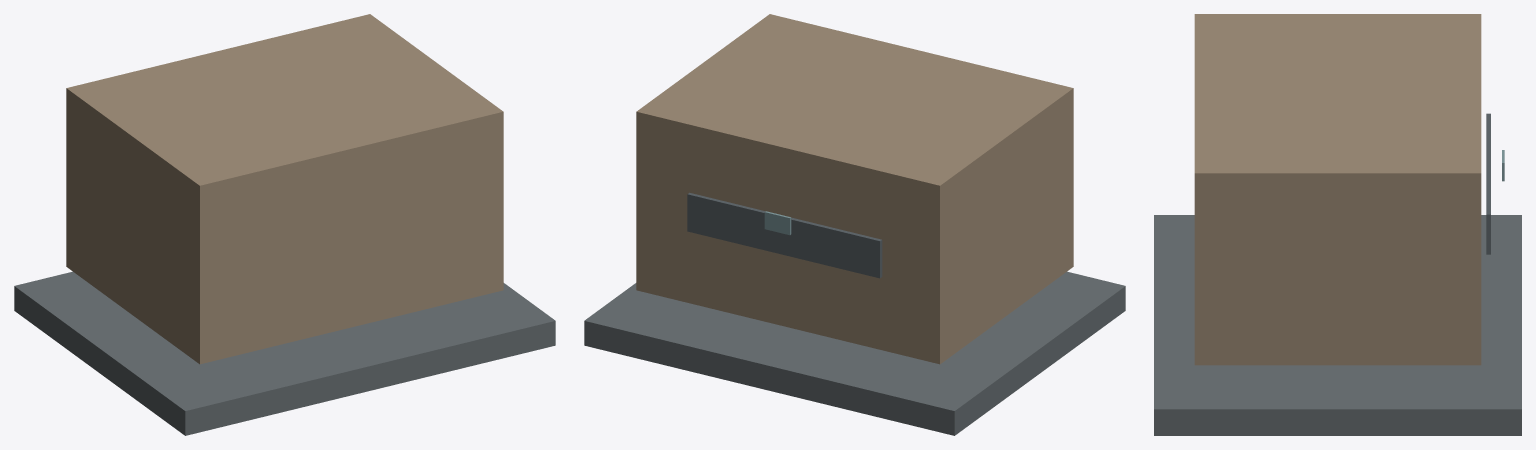
Rendered from iz3_prison_visiting_02.glb.
3 renders of one model, left to right at view 1: azimuth 30°, elevation 25°; view 2: azimuth 150°, elevation 25°; view 3: azimuth 270°, elevation 25°, orthographic. The views are drawn at different scales.
Visible parts, largest first — view 1: cabinet, base; view 2: cabinet, base, panel, display; view 3: cabinet, base, panel.
Boxes of the visible parts, bbox=[...] form: cabinet: bbox=[66, 14, 503, 364]; base: bbox=[14, 271, 555, 435]; cabinet: bbox=[636, 14, 1073, 364]; base: bbox=[584, 271, 1125, 435]; panel: bbox=[687, 192, 882, 278]; display: bbox=[764, 211, 791, 235]; cabinet: bbox=[1194, 14, 1481, 365]; base: bbox=[1154, 215, 1521, 435]; panel: bbox=[1486, 113, 1490, 254].
Bounding box in the file's own units: 5 × 2.94 × 4.
